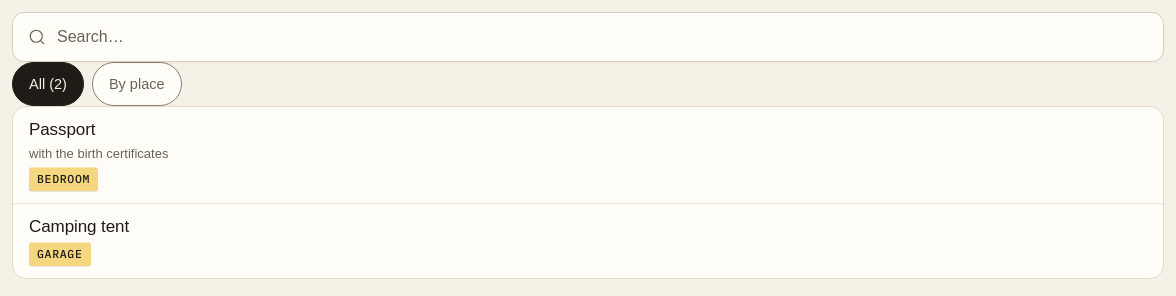
typing a query that matches one item narrows the visible list
In the search field named "Search your stuff": (588, 37) [12,12,1164,62], type "tent"
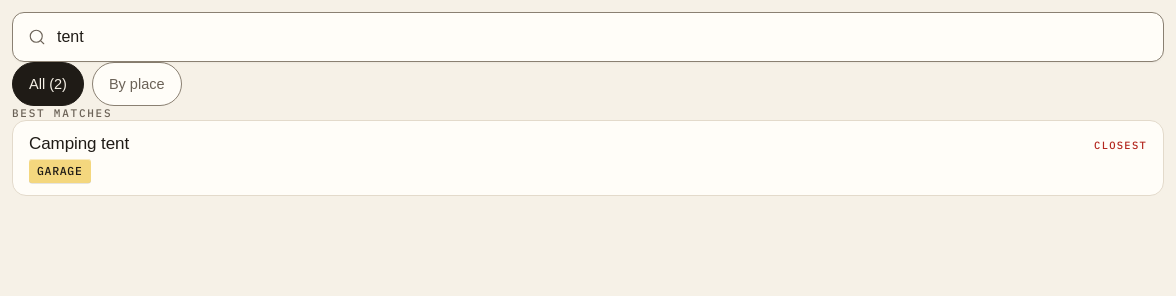
Check: the text "Camping tent" is shown, box [29,133,129,155]
Check: the link "Passport" is gone
